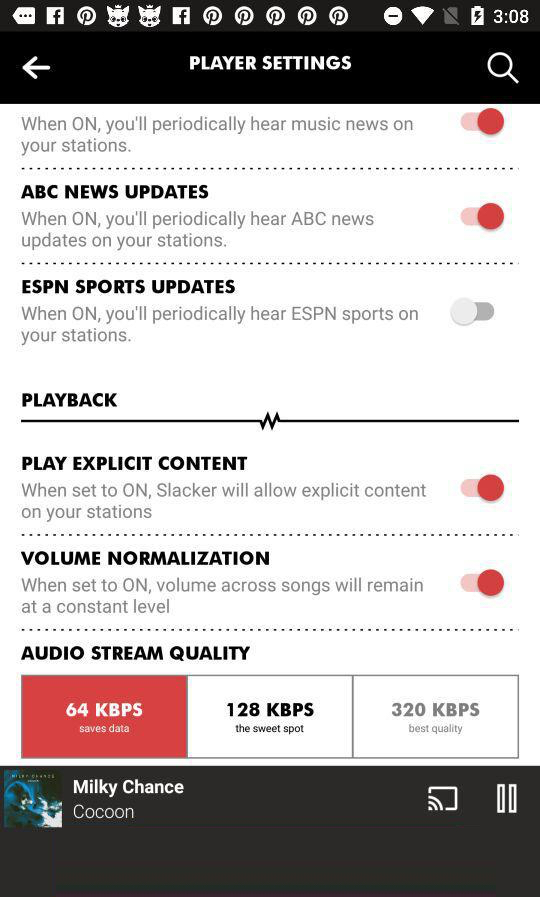Icon: (487, 52, 520, 85), (22, 56, 52, 81)
Image: (4, 769, 63, 828), (427, 785, 459, 812), (496, 783, 518, 814), (261, 412, 280, 430)
Switch: (459, 473, 505, 503), (449, 297, 495, 327), (460, 568, 505, 597), (460, 203, 505, 232), (461, 108, 505, 137)
Text: (21, 115, 414, 158), (21, 482, 427, 523), (21, 306, 419, 347), (21, 577, 424, 615), (22, 211, 375, 252), (21, 550, 270, 566), (21, 644, 251, 661), (22, 455, 248, 471), (22, 279, 236, 295), (21, 184, 210, 200), (190, 56, 352, 72), (73, 778, 185, 798), (21, 393, 118, 409), (74, 803, 136, 820)
TextButton: (21, 675, 187, 759), (353, 676, 519, 759), (188, 676, 353, 759)
Toolbar: (1, 33, 540, 105)
UpperTaskBar: (1, 1, 540, 33)
